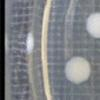white: (59, 51, 95, 87), (20, 30, 39, 57), (85, 10, 100, 40)
